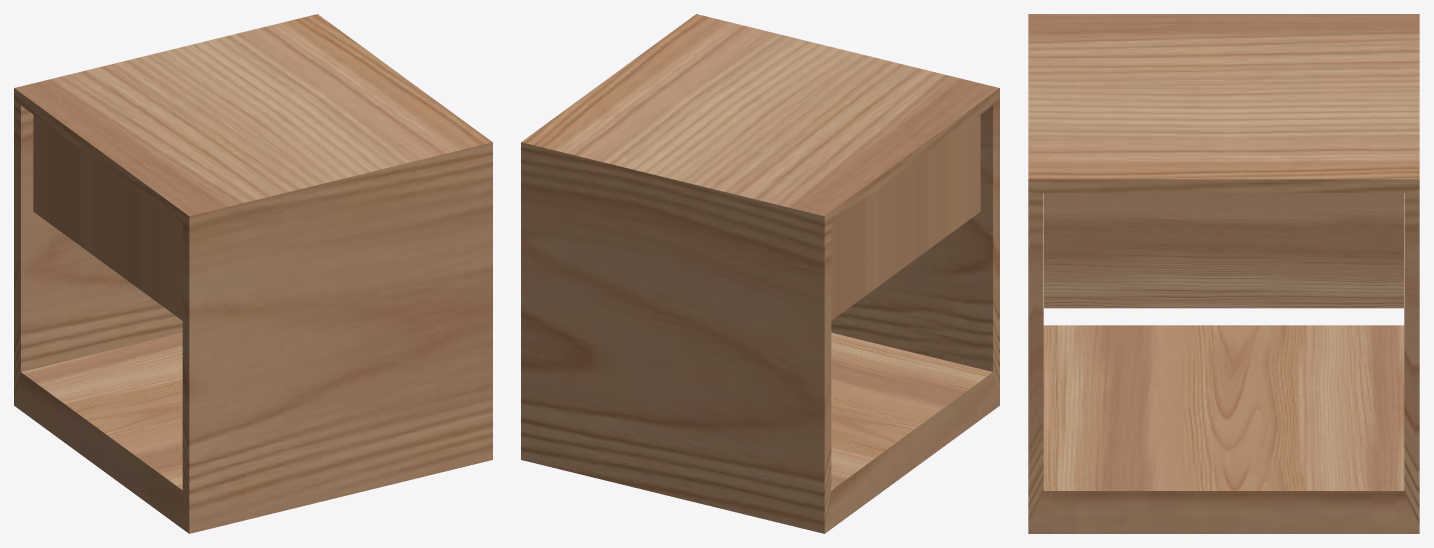
Rendered from nightstand-cube-2.glb.
3 renders of one model, left to right at view 1: azimuth 30°, elevation 25°; view 2: azimuth 150°, elevation 25°; view 3: azimuth 270°, elevation 25°, orthographic. The views are drawn at different scales.
Parts seen in each view (by area): view 1: Cube.015; view 2: Cube.015; view 3: Cube.015.
Part boxes in pixels (x1,y1,x2,y2): Cube.015: (14, 14, 492, 533); Cube.015: (521, 14, 999, 533); Cube.015: (1028, 14, 1419, 533).
Size of the model in its own units: 0.6397 by 0.6397 by 0.6397.
Materials: 1 (1 with a texture image).
